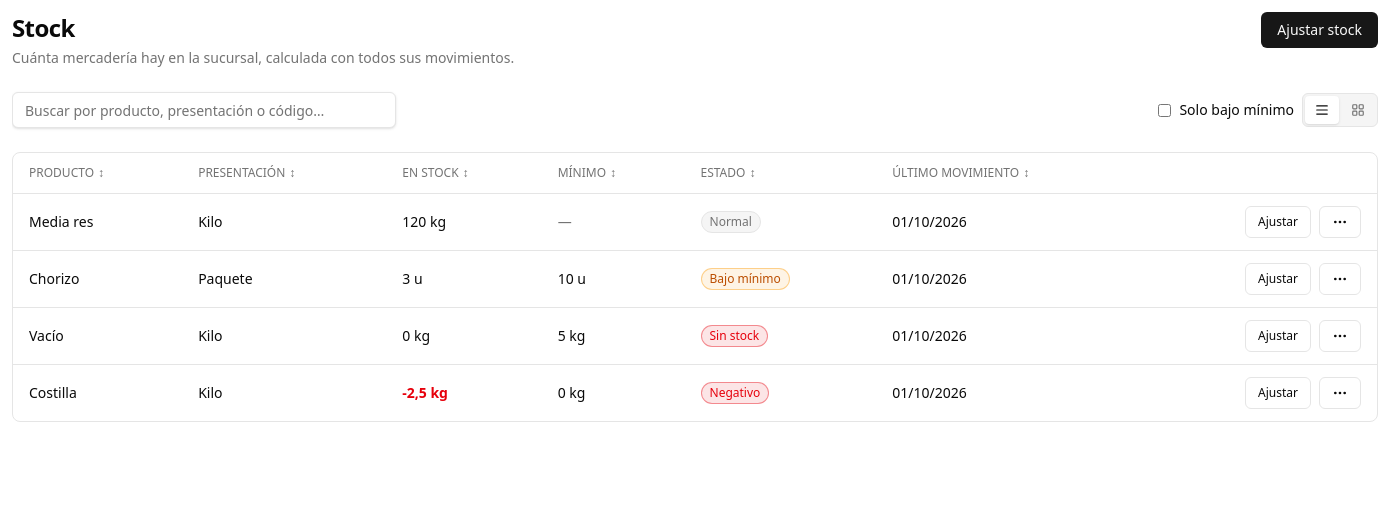
Test: StockScreen › keeps the chosen order after registering an adjustment, which swaps the table out and reloads it
Click the button "En stock ↕" at {"x": 435, "y": 173}, box top-left (402, 165), bottom-right (469, 181)
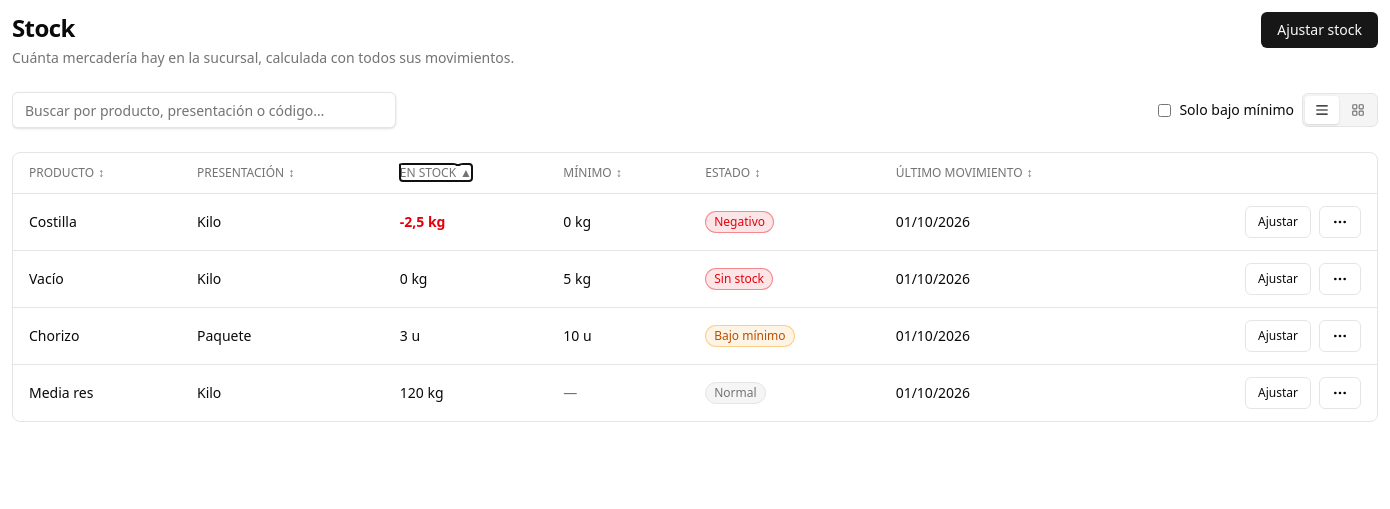
Click the button "Ajustar" in the row of "Media res" at {"x": 1278, "y": 393}, box top-left (1245, 377), bottom-right (1311, 409)
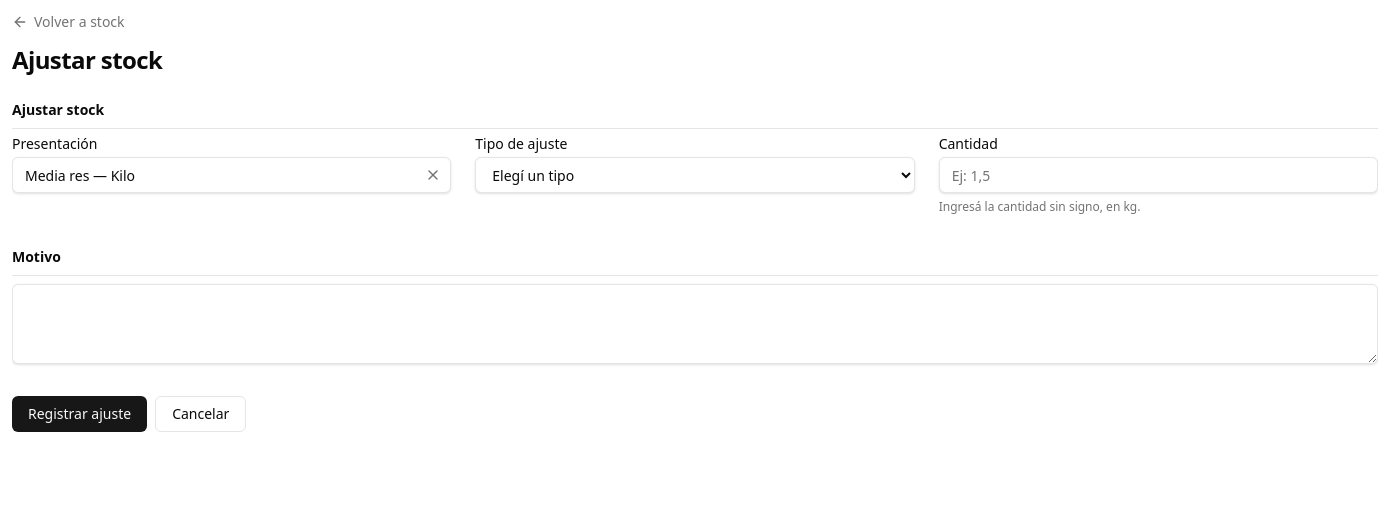
Select "Merma" in the dropdown labelled "Tipo de ajuste" at {"x": 695, "y": 175}, box top-left (475, 157), bottom-right (915, 193)
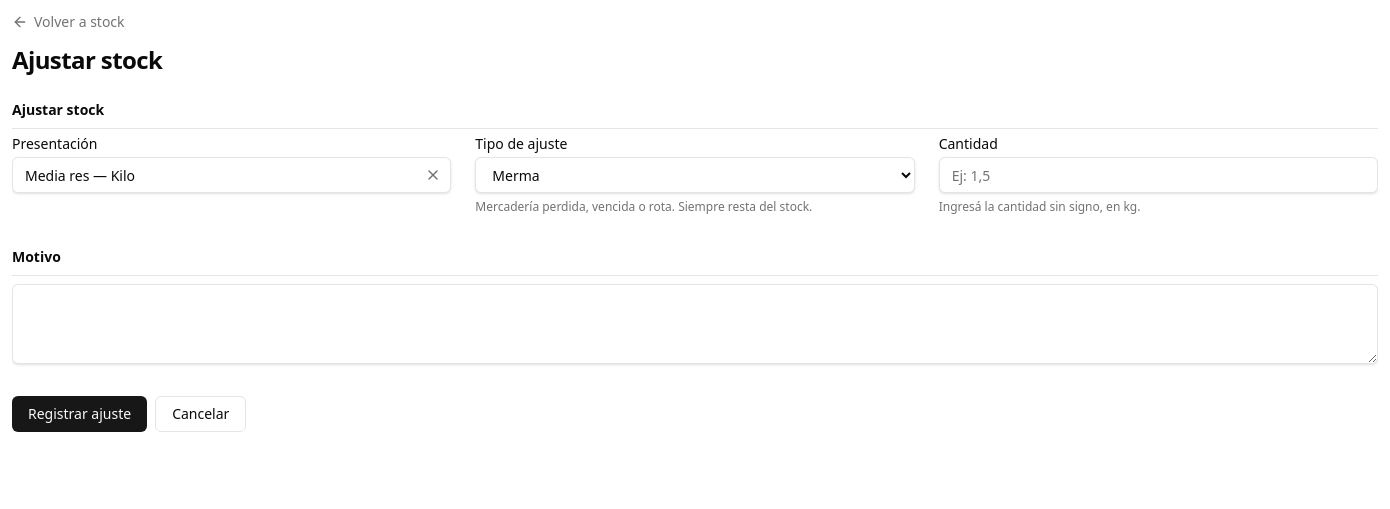
Type "2,5" into the field labelled "Cantidad" at {"x": 1158, "y": 175}, box top-left (939, 157), bottom-right (1378, 193)
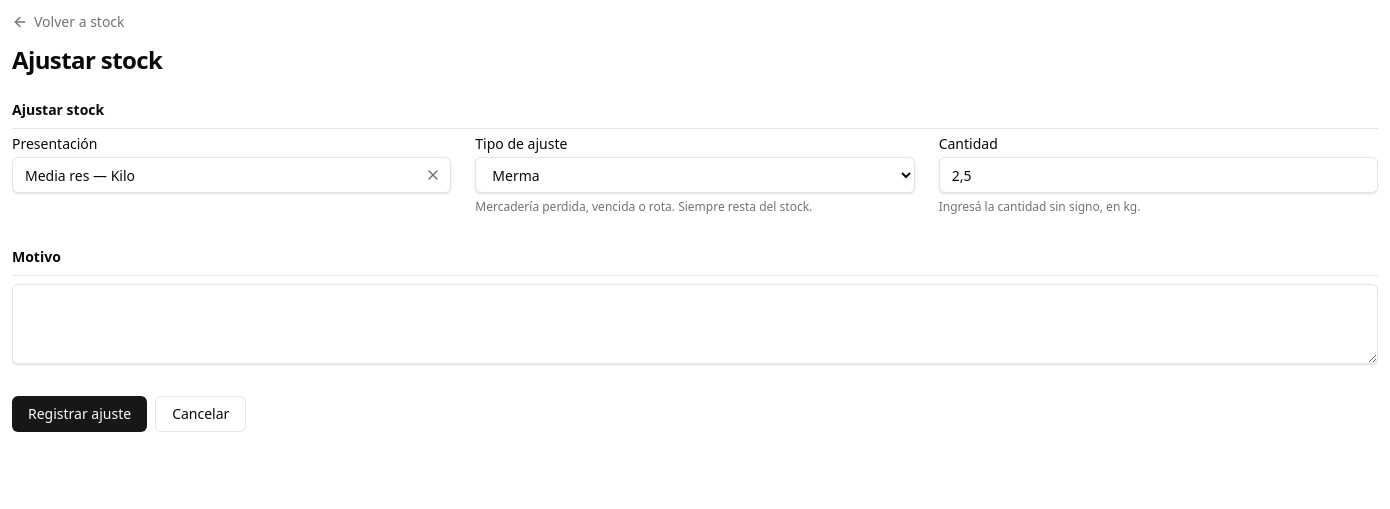
Type "Se venció" into the text box named "Motivo" at {"x": 695, "y": 324}, box top-left (12, 284), bottom-right (1378, 364)
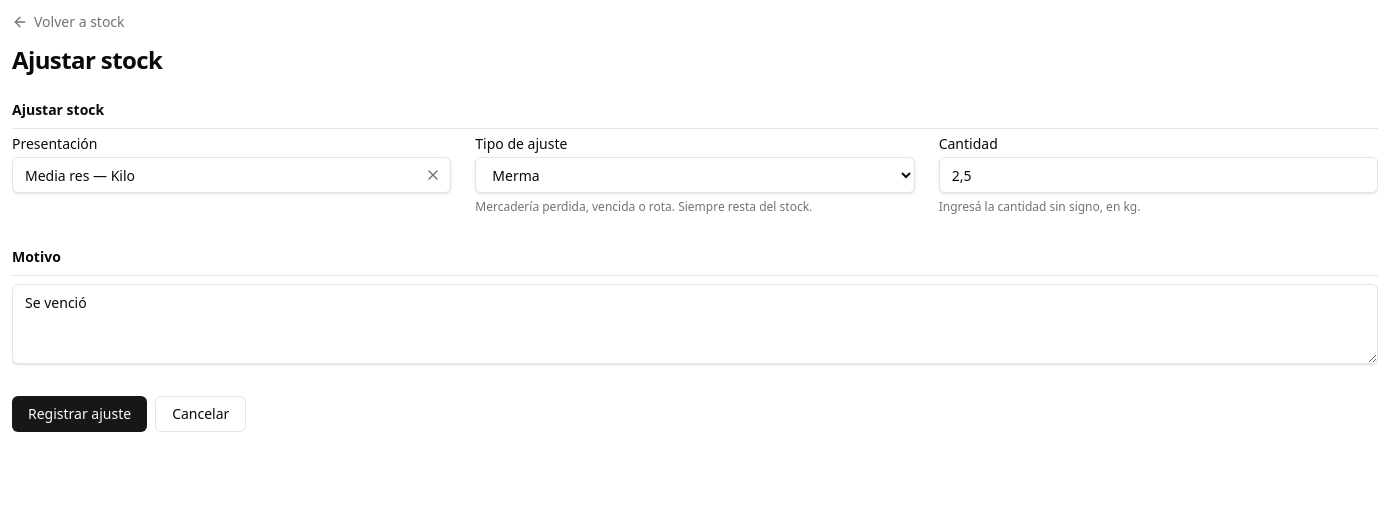
Click the button "Registrar ajuste" at {"x": 80, "y": 414}, box top-left (12, 396), bottom-right (147, 432)
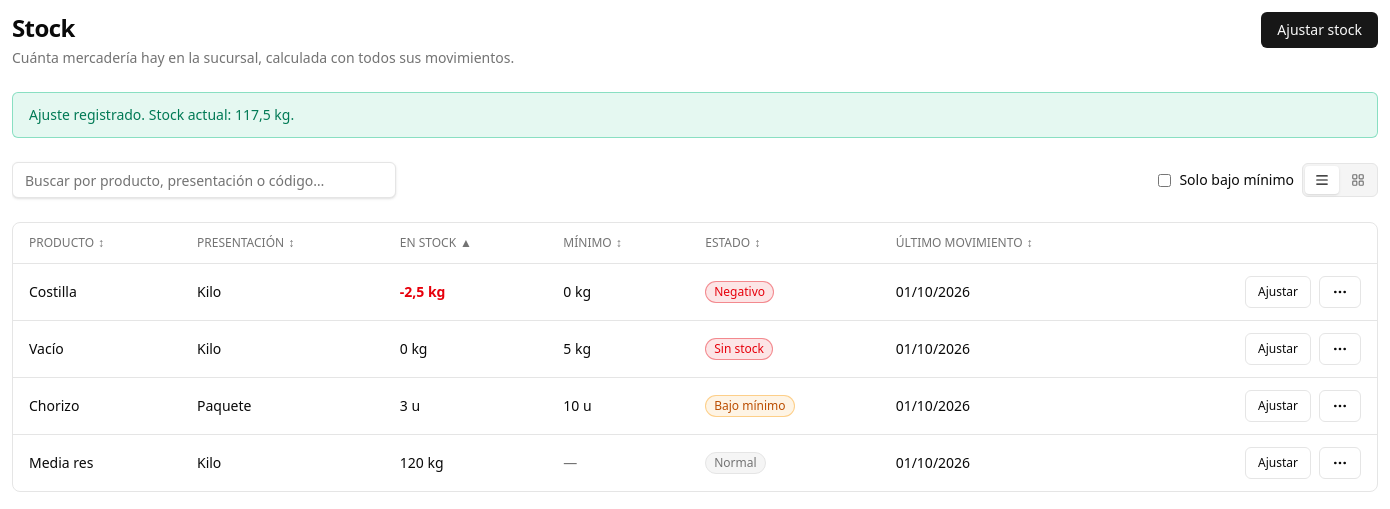
expect the text "Ajuste registrado. Stock actual: 117,5 kg." is shown: met, box top-left (12, 92), bottom-right (1378, 138)
